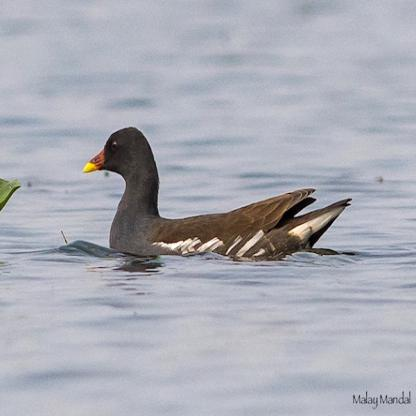Burung: (83, 126, 352, 258)
